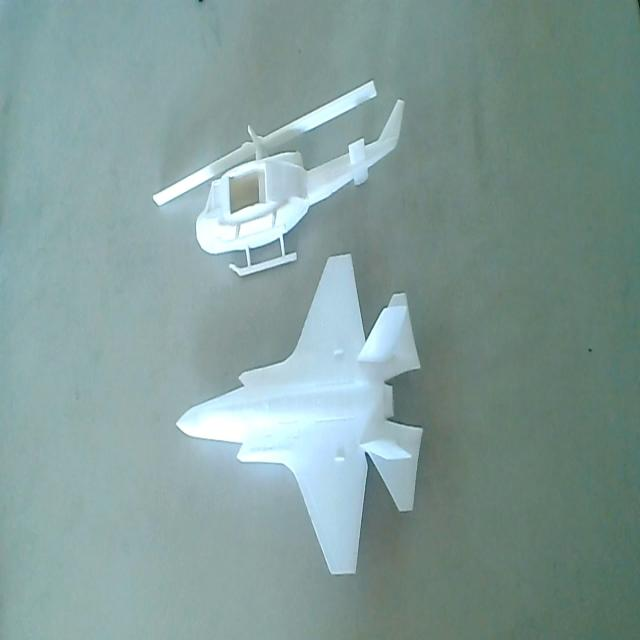Helicopter: (146, 77, 408, 283)
Jet: (172, 256, 424, 572)
